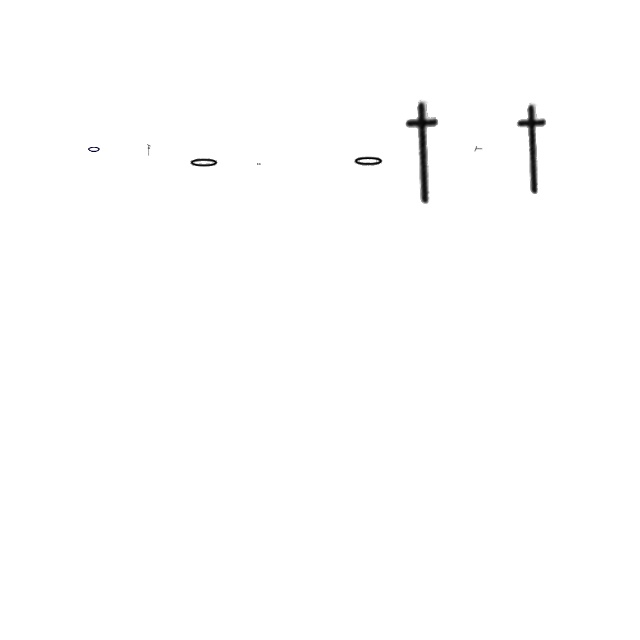chain: (352, 156, 386, 168), (188, 157, 220, 169), (87, 144, 101, 154), (257, 163, 261, 165)
double treble: (147, 144, 151, 156)
enseble_chain: (393, 100, 455, 206), (506, 102, 562, 196), (474, 146, 484, 152)
